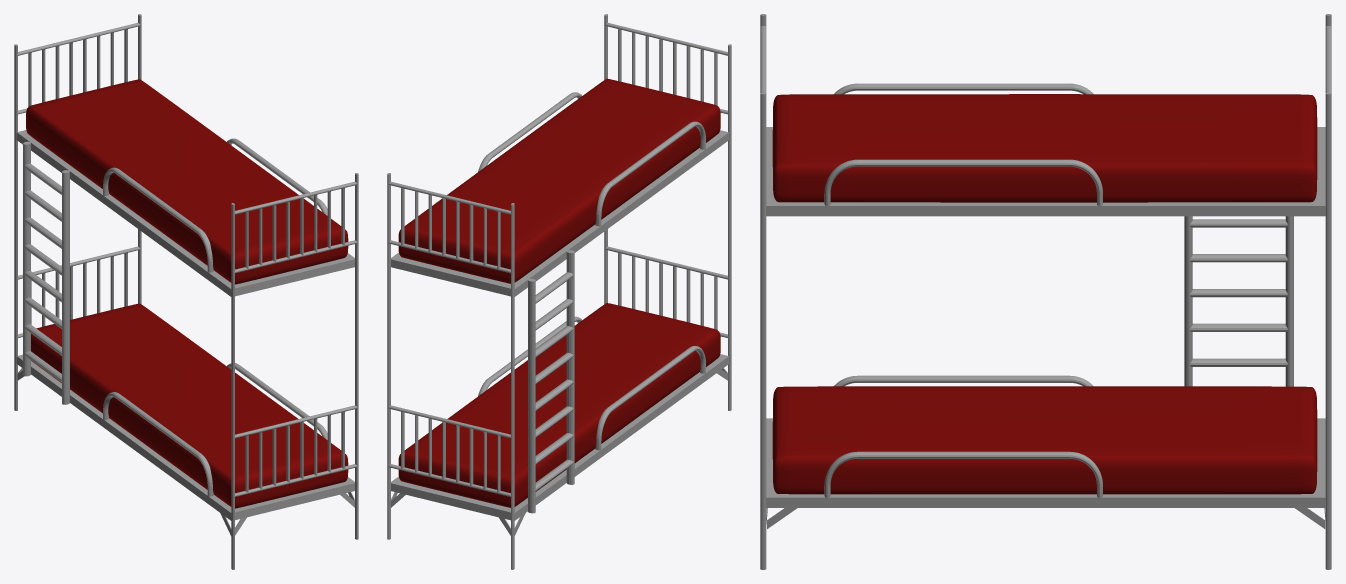
The model's file is Bunk.fbx.
The picture shows the model from 3 angles, left to right: view 1: azimuth 30°, elevation 25°; view 2: azimuth 150°, elevation 25°; view 3: azimuth 270°, elevation 25°; orthographic projection. The views are drawn at different scales.
Visible parts, largest first — view 1: Bunk, Bed Top, Bed Down; view 2: Bunk, Bed Top, Bed Down; view 3: Bed Top, Bed Down, Bunk.
Boxes of the visible parts, <box> form: Bunk: <box>14,14,358,569</box>; Bed Top: <box>26,79,348,284</box>; Bed Down: <box>31,303,348,508</box>; Bunk: <box>387,14,731,569</box>; Bed Top: <box>398,78,720,283</box>; Bed Down: <box>398,303,720,507</box>; Bed Top: <box>772,94,1317,202</box>; Bed Down: <box>772,386,1317,494</box>; Bunk: <box>760,14,1331,569</box>.
Bounding box in the file's own units: 105 × 276 × 300.
